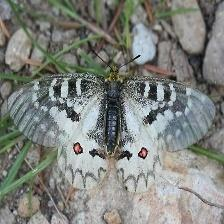butterfly: (9, 72, 216, 192)
